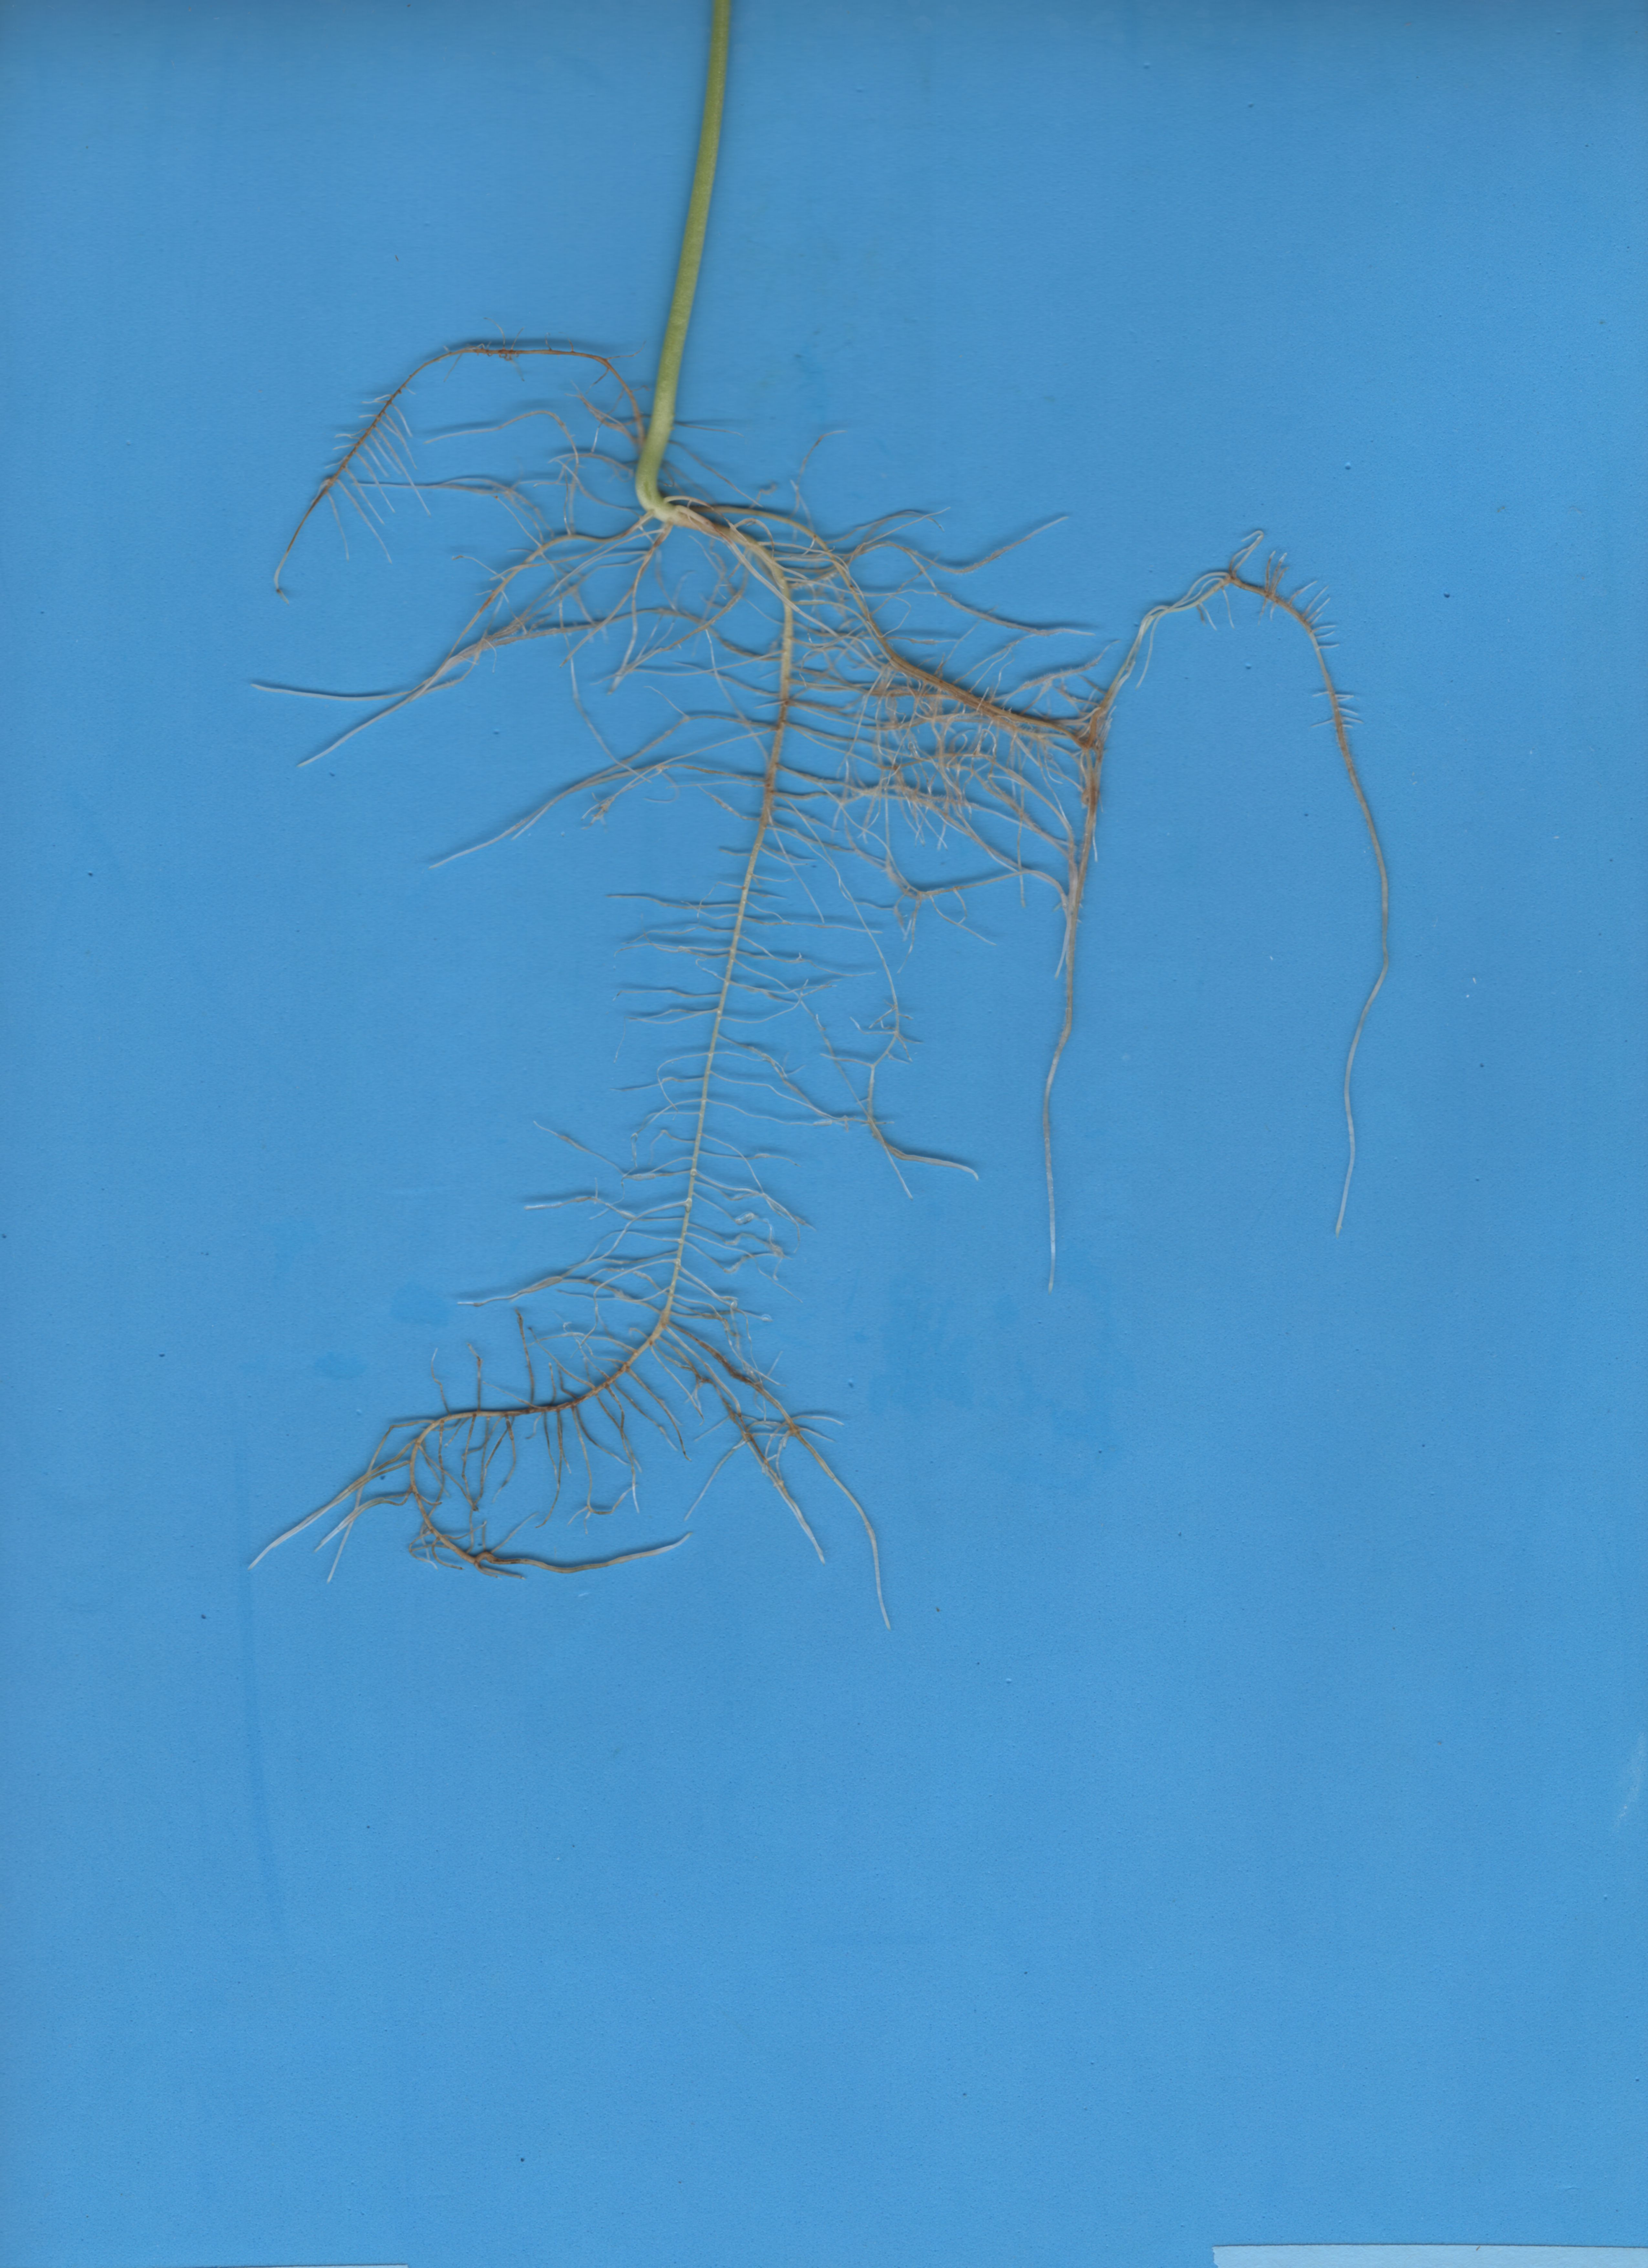CROWNGOOD: (625, 16, 773, 532)
ROOTGOOD: (206, 352, 1488, 1666)
